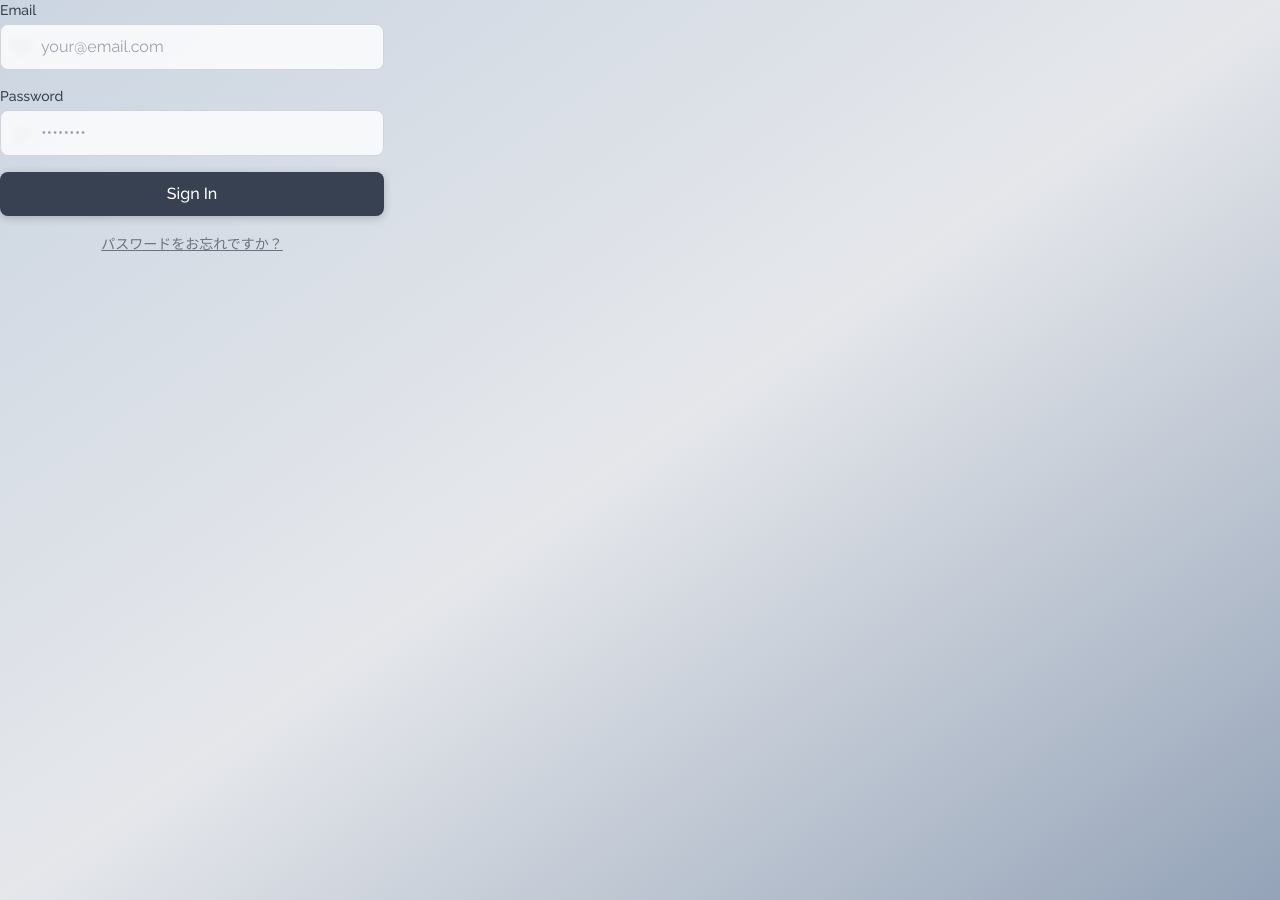
Test case: AuthForm › password reset › toggles to reset form when clicking forgot password
Step 1. Click the button "パスワードをお忘れですか？" → point(192, 244), box x1=101 y1=234 x2=283 y2=254
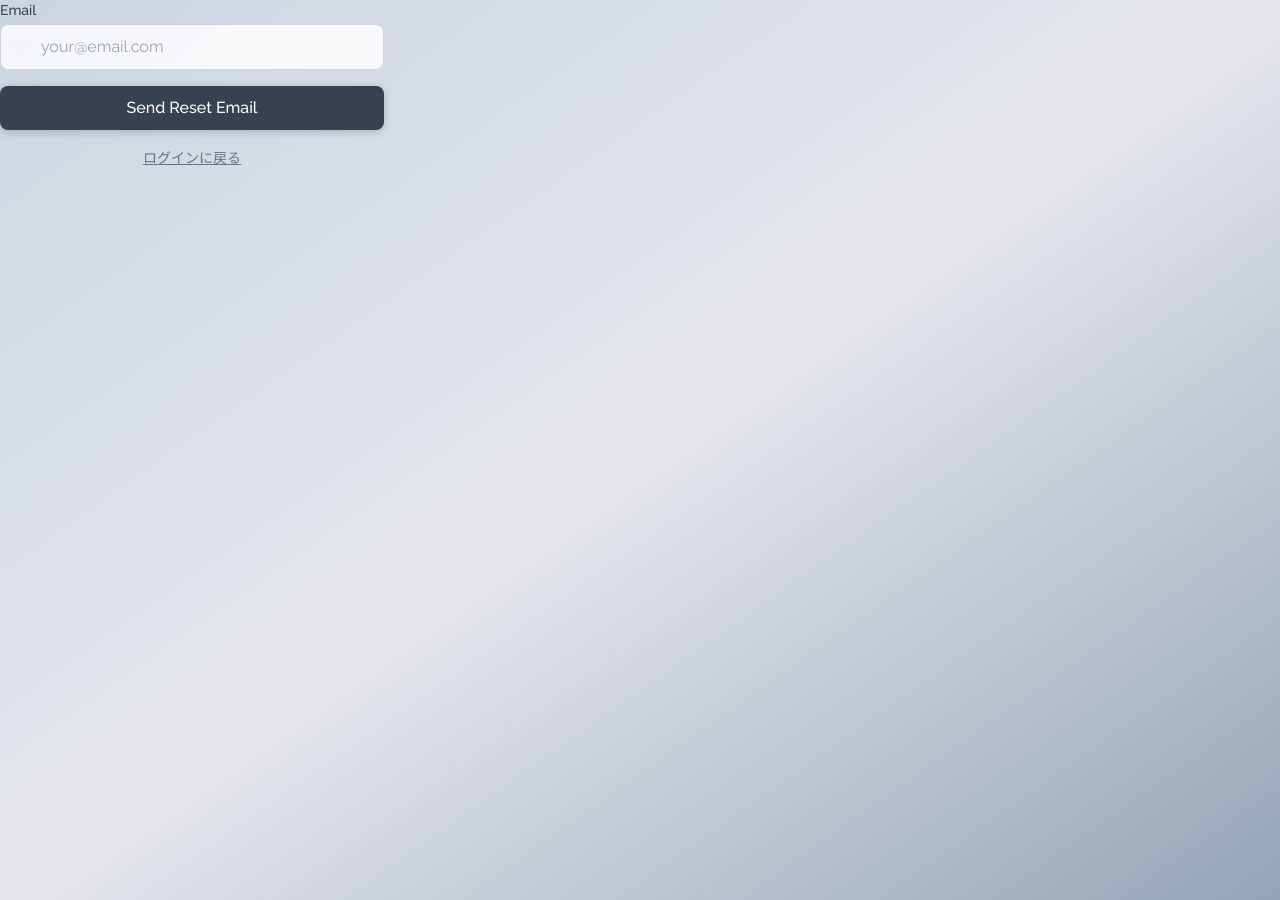
Now the button "Send Reset Email" is shown, box x1=0 y1=86 x2=384 y2=130
Now the label labelled "Password" is gone
